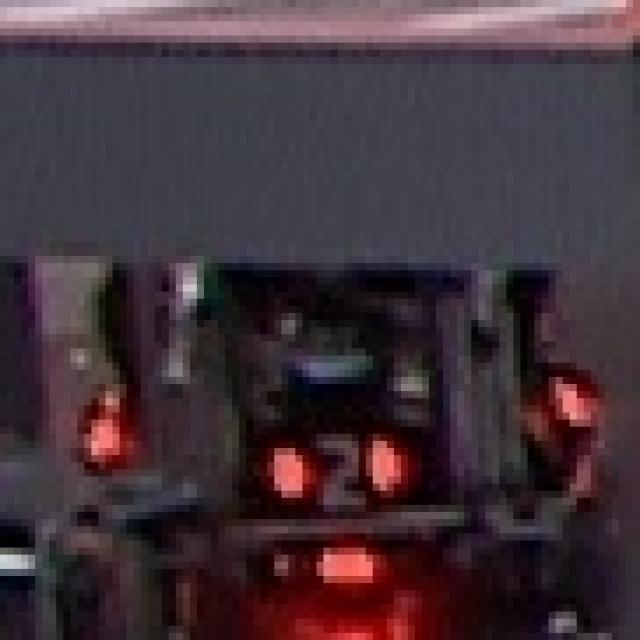R2: (274, 420, 408, 512)
